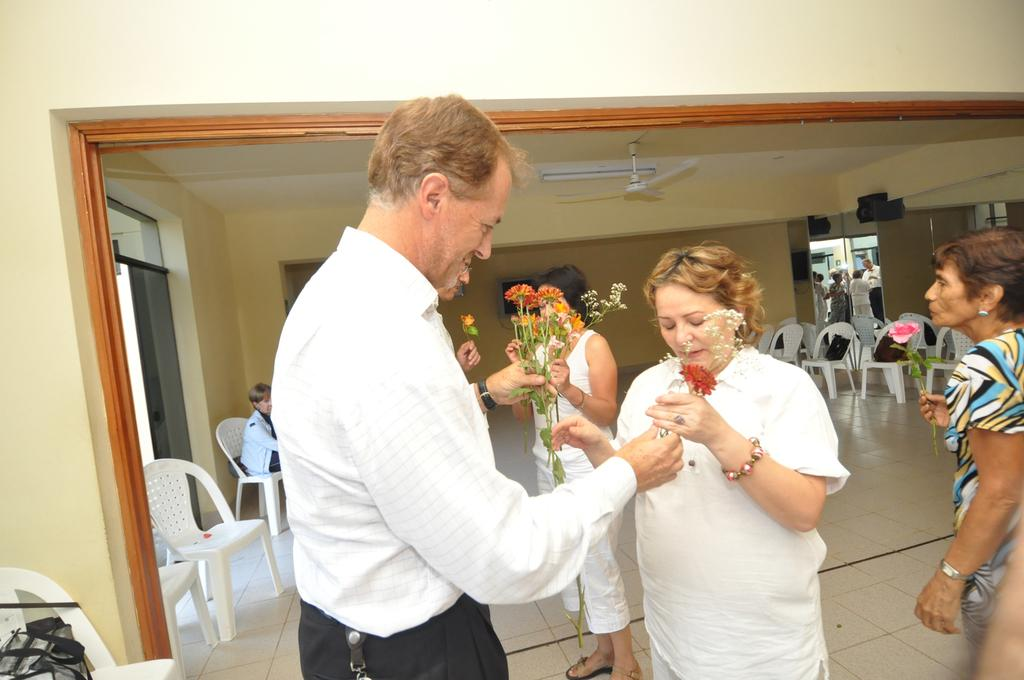Sem Máscara: (432, 159, 514, 289), (653, 283, 727, 370), (922, 250, 971, 326), (437, 255, 467, 297)
